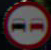No overtake: (5, 3, 47, 41)
